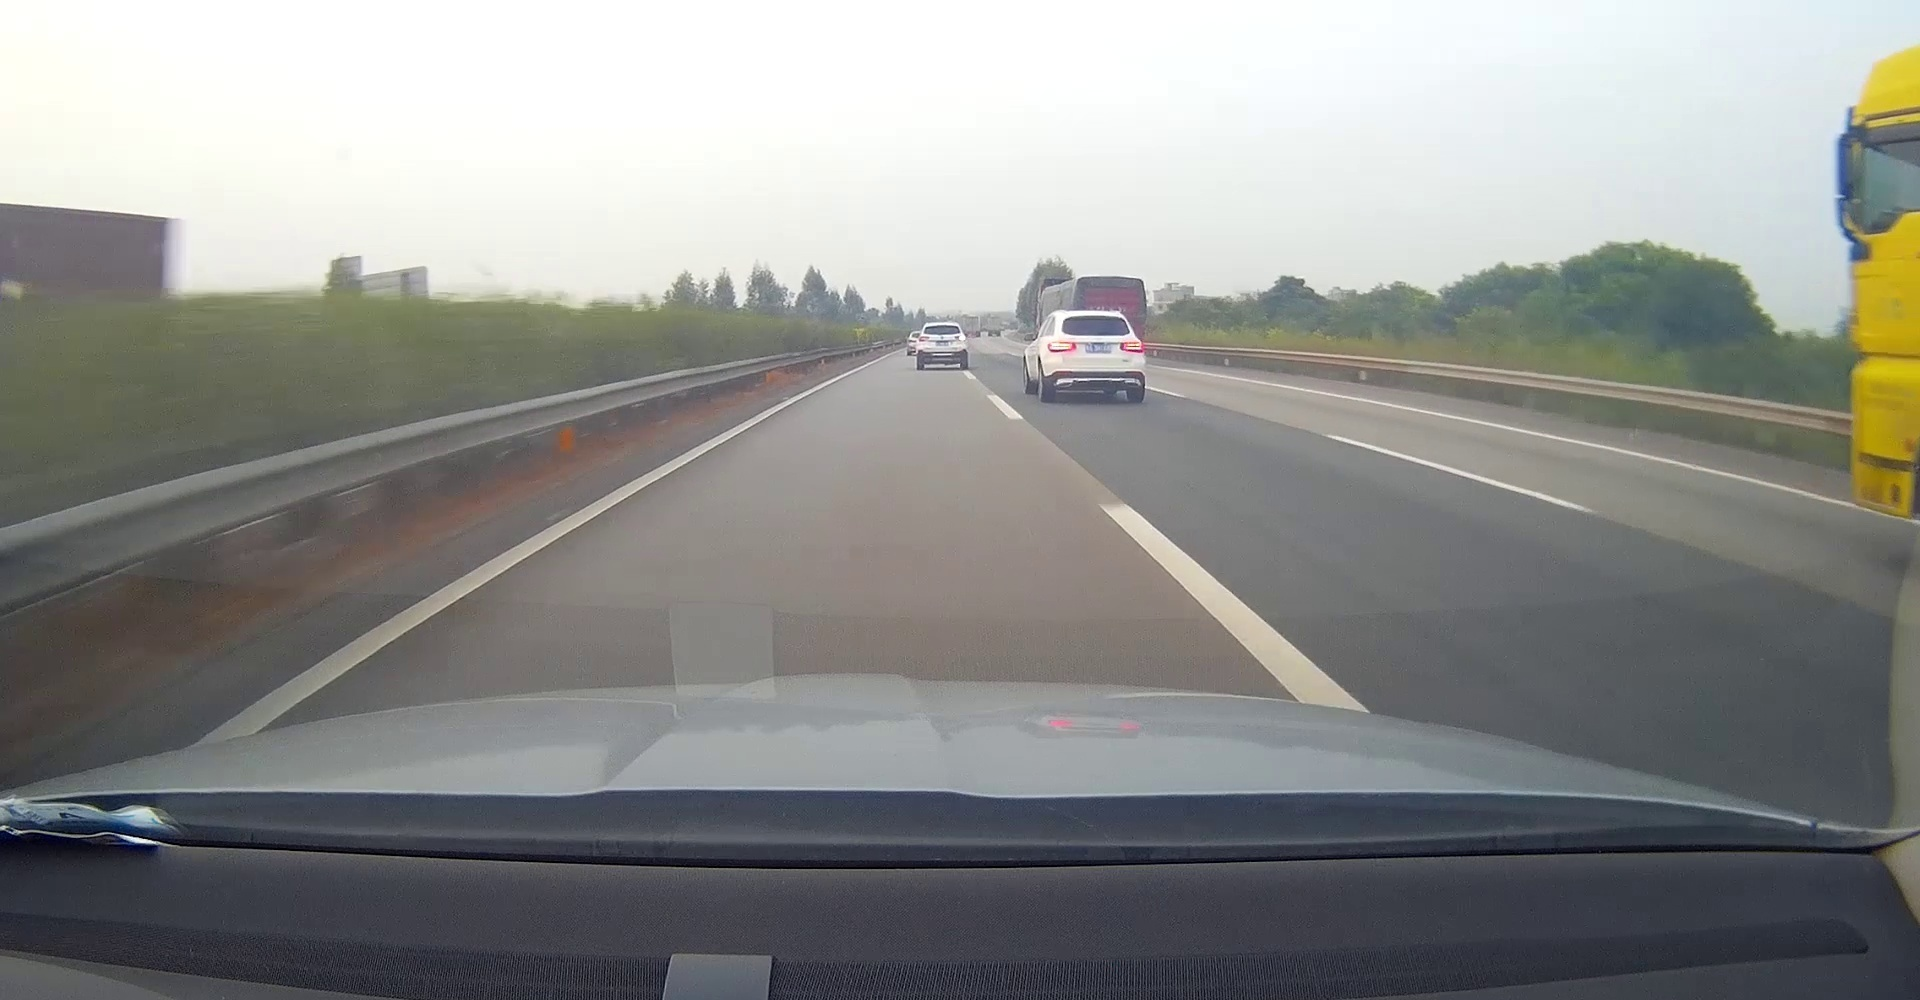L_light: (1048, 341, 1077, 352), (918, 336, 930, 341)
R_light: (1120, 341, 1144, 352), (955, 335, 966, 341)
T_light: (1086, 315, 1105, 319), (937, 324, 946, 327)
day-no: (1045, 311, 1145, 404)
day-right: (916, 322, 969, 371)
